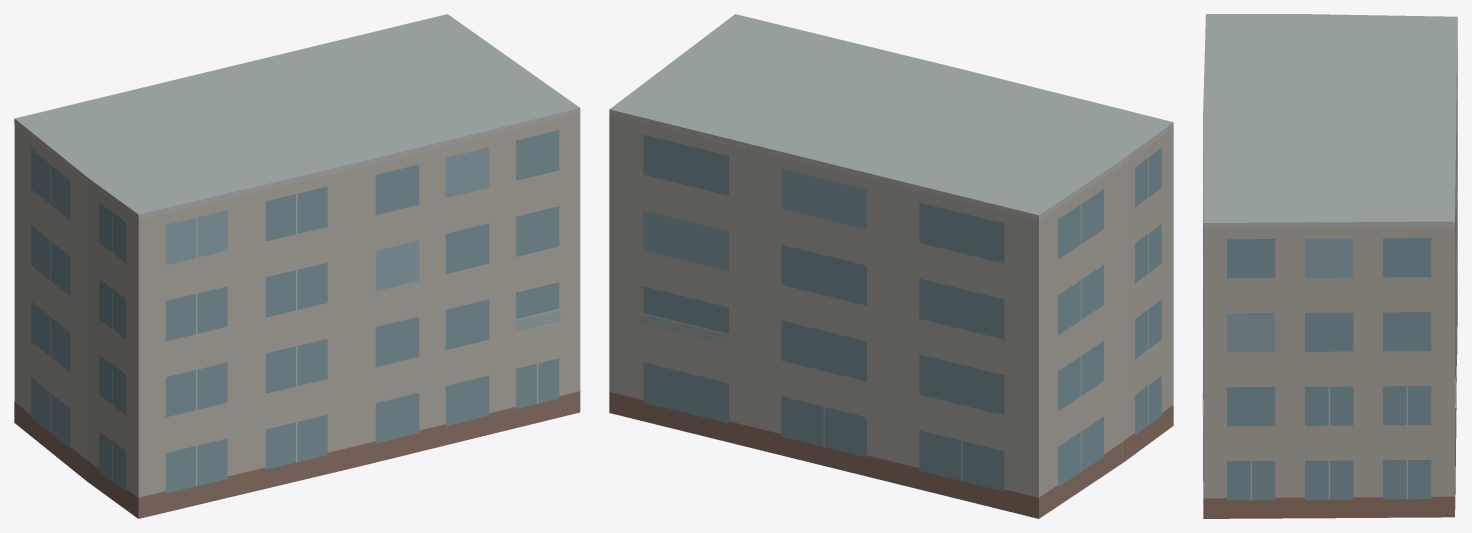
Rendered from survey-upis-32735190.glb.
The picture shows the model from 3 angles, left to right: view 1: azimuth 30°, elevation 25°; view 2: azimuth 150°, elevation 25°; view 3: azimuth 270°, elevation 25°; orthographic projection. The views are drawn at different scales.
Visible parts, largest first — view 1: survey-upis-32735190.tmp; view 2: survey-upis-32735190.tmp; view 3: survey-upis-32735190.tmp.
Boxes of the visible parts, box(x1,y1,x2,y2) form: survey-upis-32735190.tmp: box(14, 14, 580, 518); survey-upis-32735190.tmp: box(609, 14, 1173, 518); survey-upis-32735190.tmp: box(1202, 14, 1457, 518).
Size of the model in its own units: 19.56 by 12.9 by 10.09.
